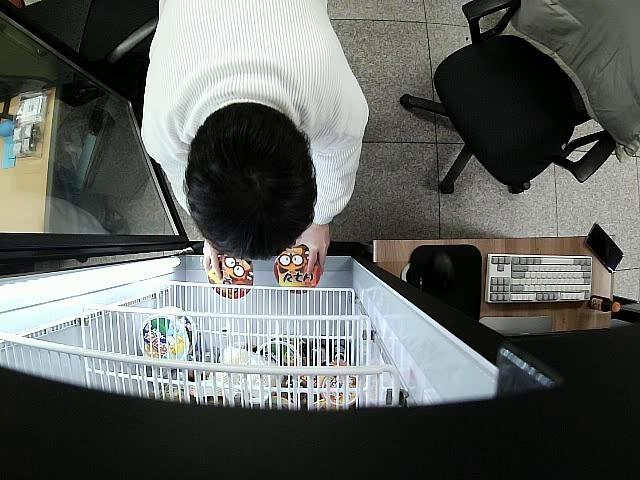05_nuguri_L: (274, 245, 322, 294), (207, 256, 254, 300)
